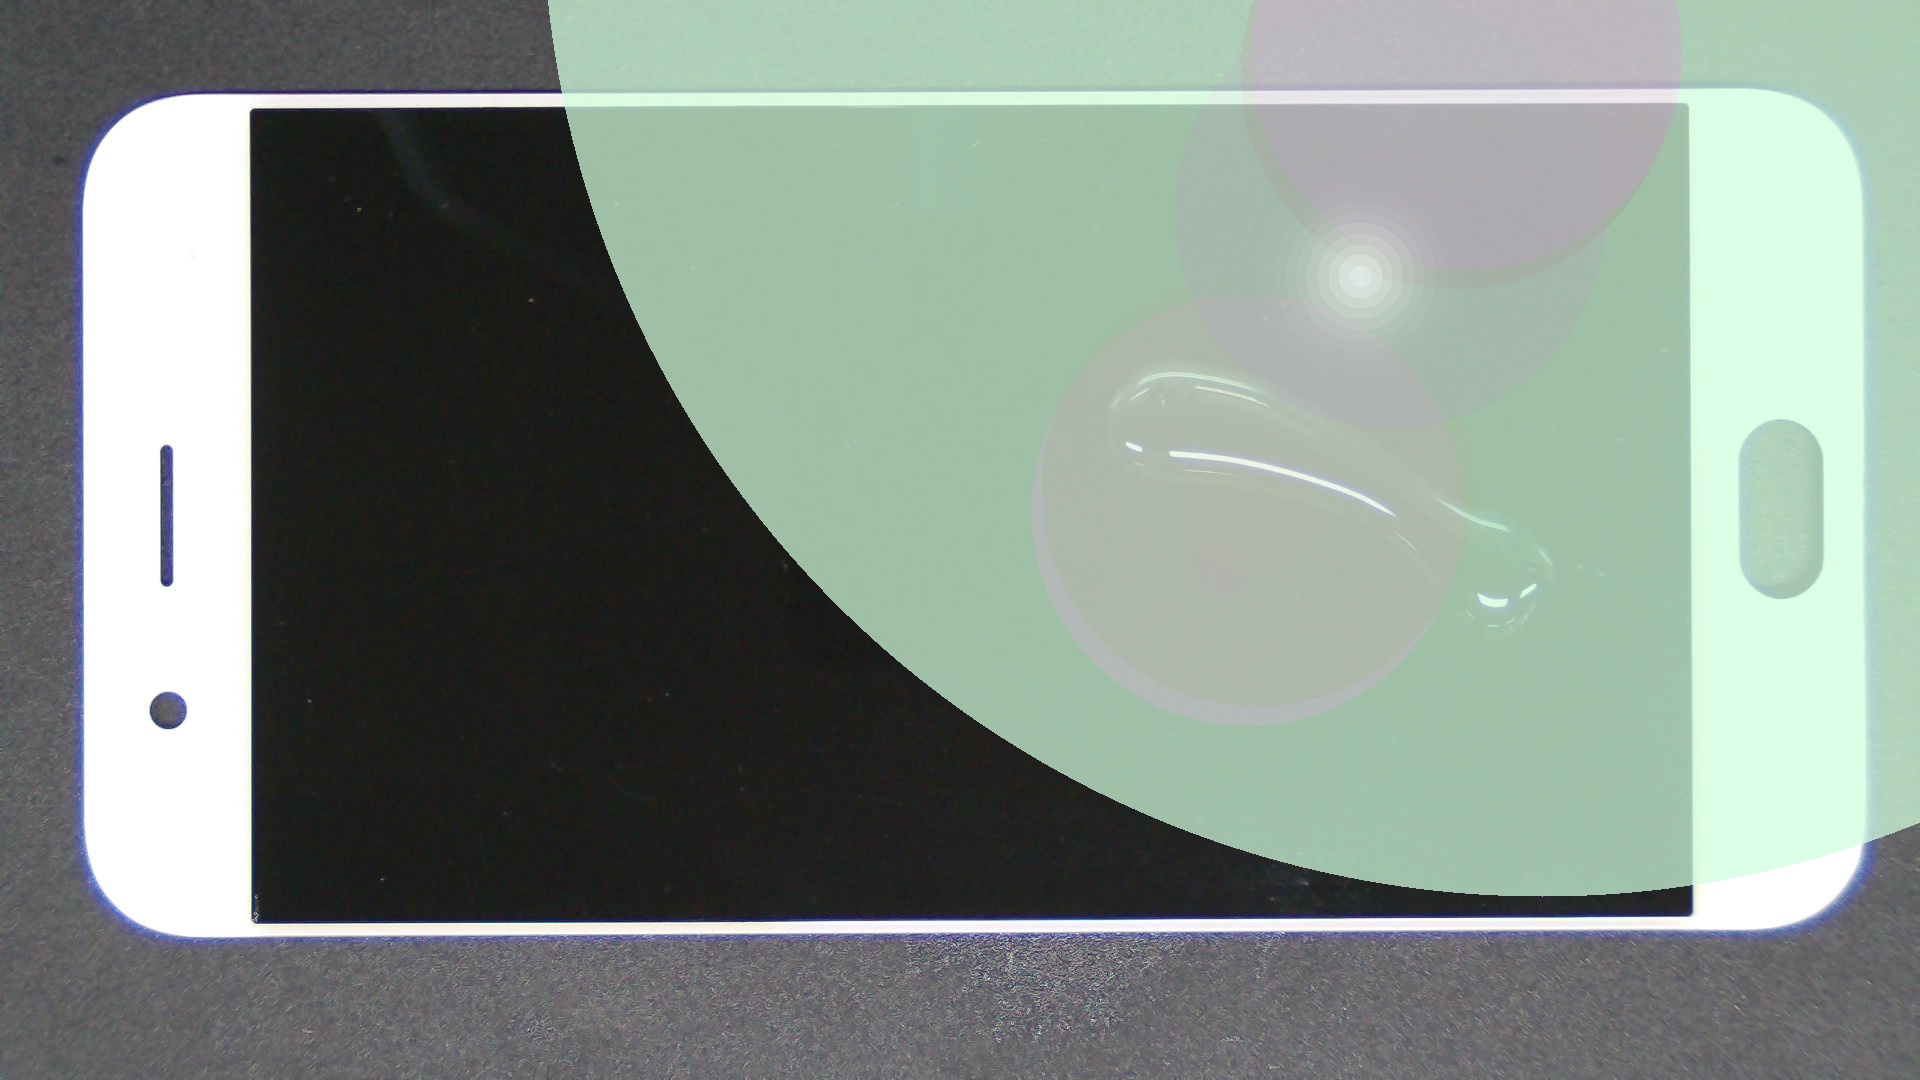oil: (582, 179, 1742, 539)
